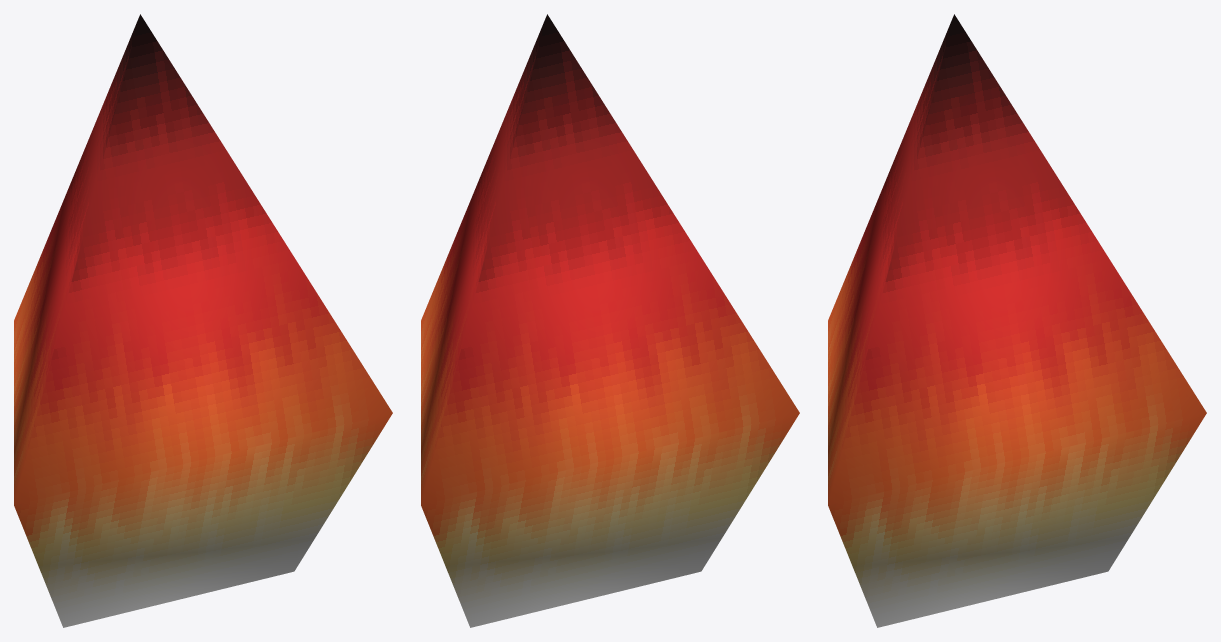
The model's file is emission_test.glb.
3 renders of one model, left to right at view 1: azimuth 30°, elevation 25°; view 2: azimuth 150°, elevation 25°; view 3: azimuth 270°, elevation 25°, orthographic.
Parts seen in each view (by area): view 1: Circle; view 2: Circle; view 3: Circle.
Part boxes in pixels (x1=…): Circle: x1=14, y1=14, x2=392, y2=627; Circle: x1=421, y1=14, x2=799, y2=627; Circle: x1=828, y1=14, x2=1206, y2=627.
Size of what is drawn, in the model's own units: 2.84 by 3.99 by 2.46.
1 material, 1 textured.
